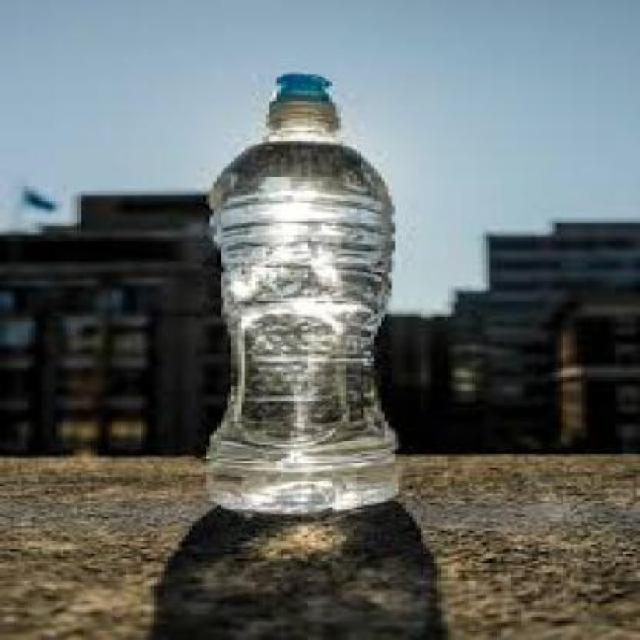Drinking: (196, 66, 427, 520)
